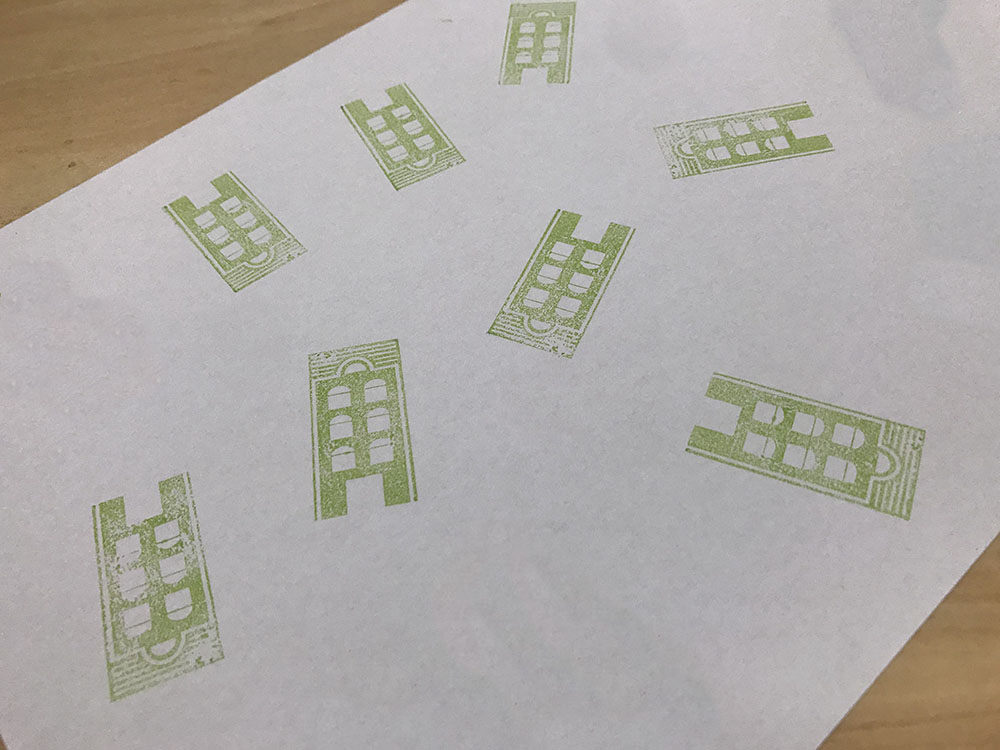build: (652, 349, 955, 542), (70, 465, 247, 719), (276, 322, 444, 537), (472, 187, 647, 374), (156, 158, 325, 317), (631, 82, 870, 193), (330, 62, 476, 201), (487, 1, 594, 99)
